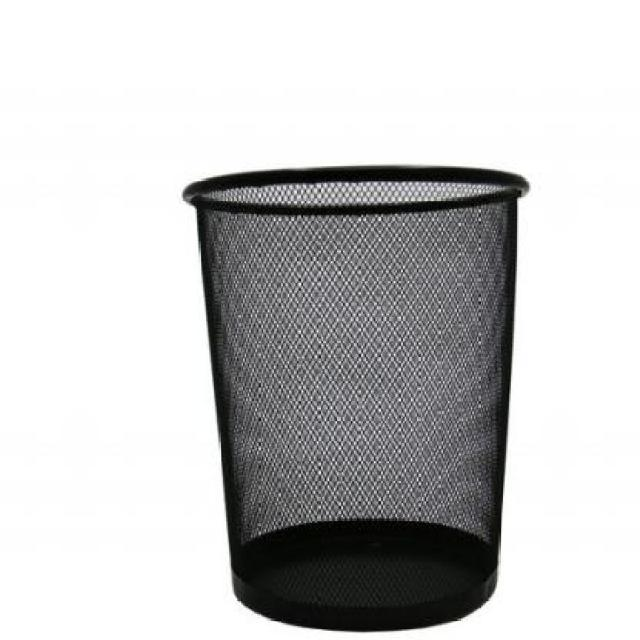dustbin: (180, 160, 534, 635)
